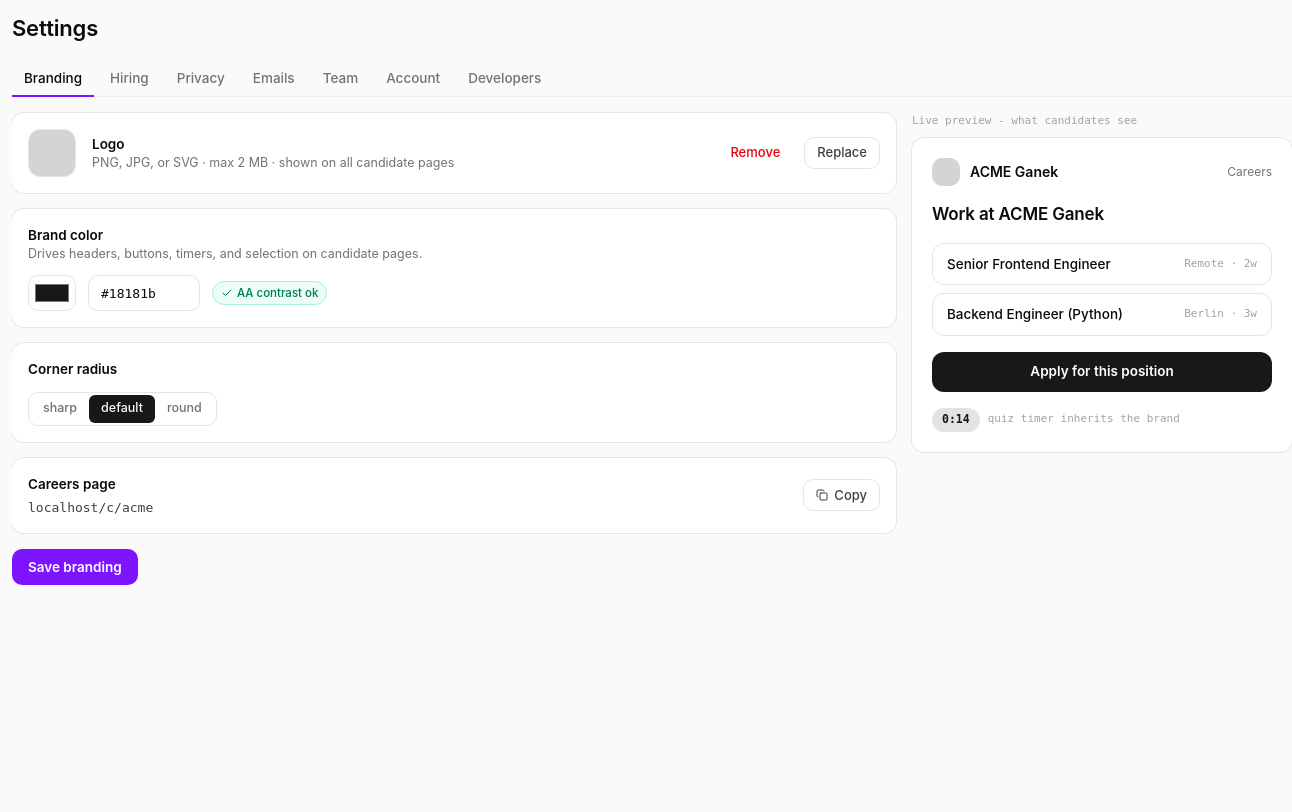
Test case: BrandingPage › removes the logo
This screenshot has width=1292, height=812.
Click the button "Remove": (755, 153) left=722, top=137, right=788, bottom=169
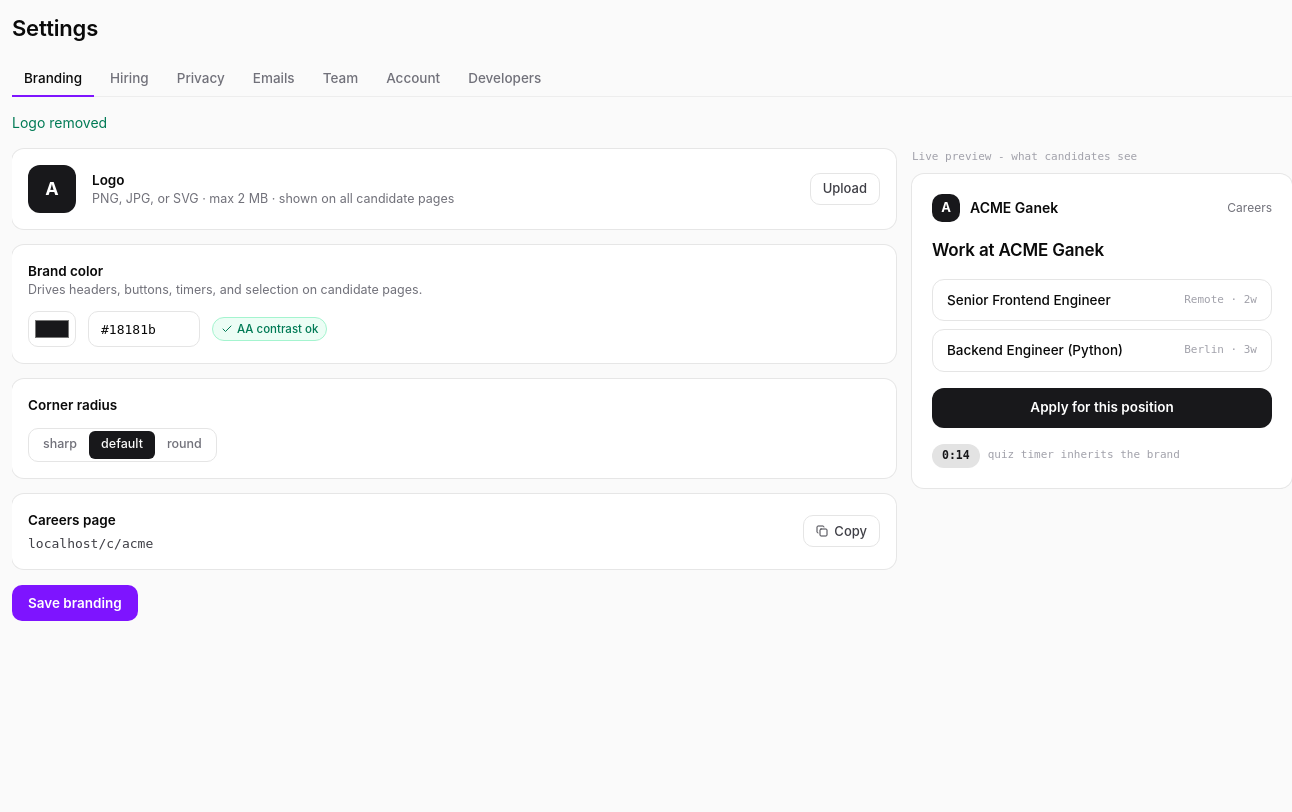
expect the message reads "Logo removed": met, box left=12, top=114, right=107, bottom=131
